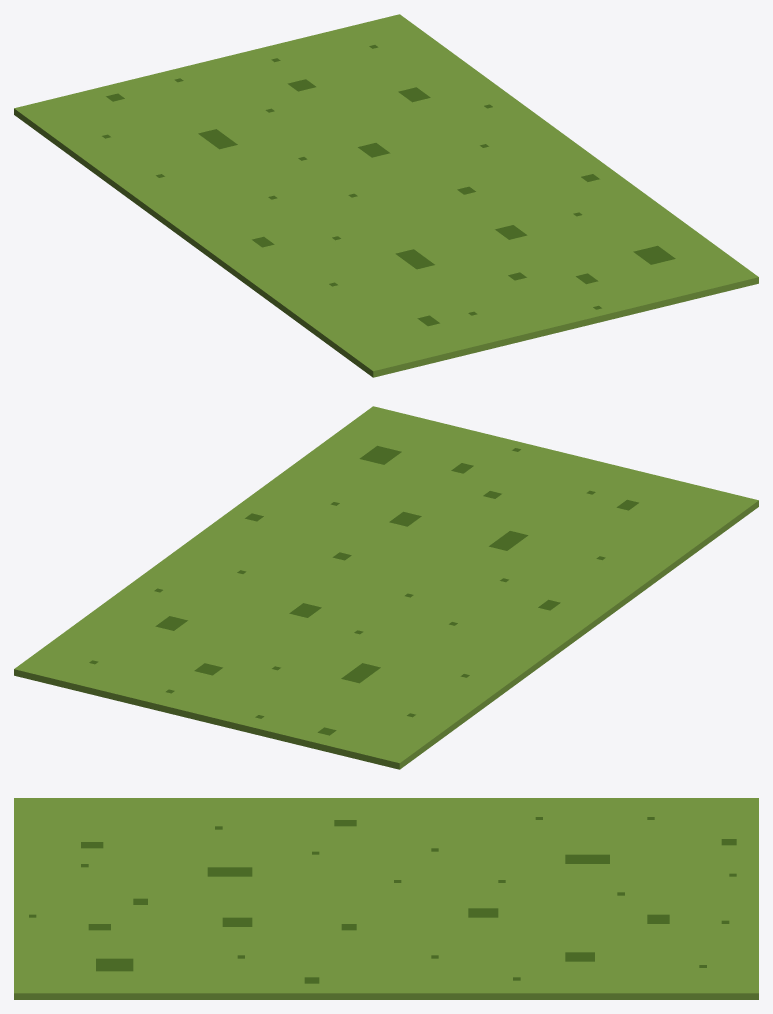
Rendered from subfloor.obj.
3 renders of one model, top to bottom at view 1: azimuth 30°, elevation 25°; view 2: azimuth 150°, elevation 25°; view 3: azimuth 270°, elevation 25°, orthographic. The views are drawn at different scales.
Bounding box in the file's own units: 6.2 × 0.1 × 10.
1 material, 1 textured.
